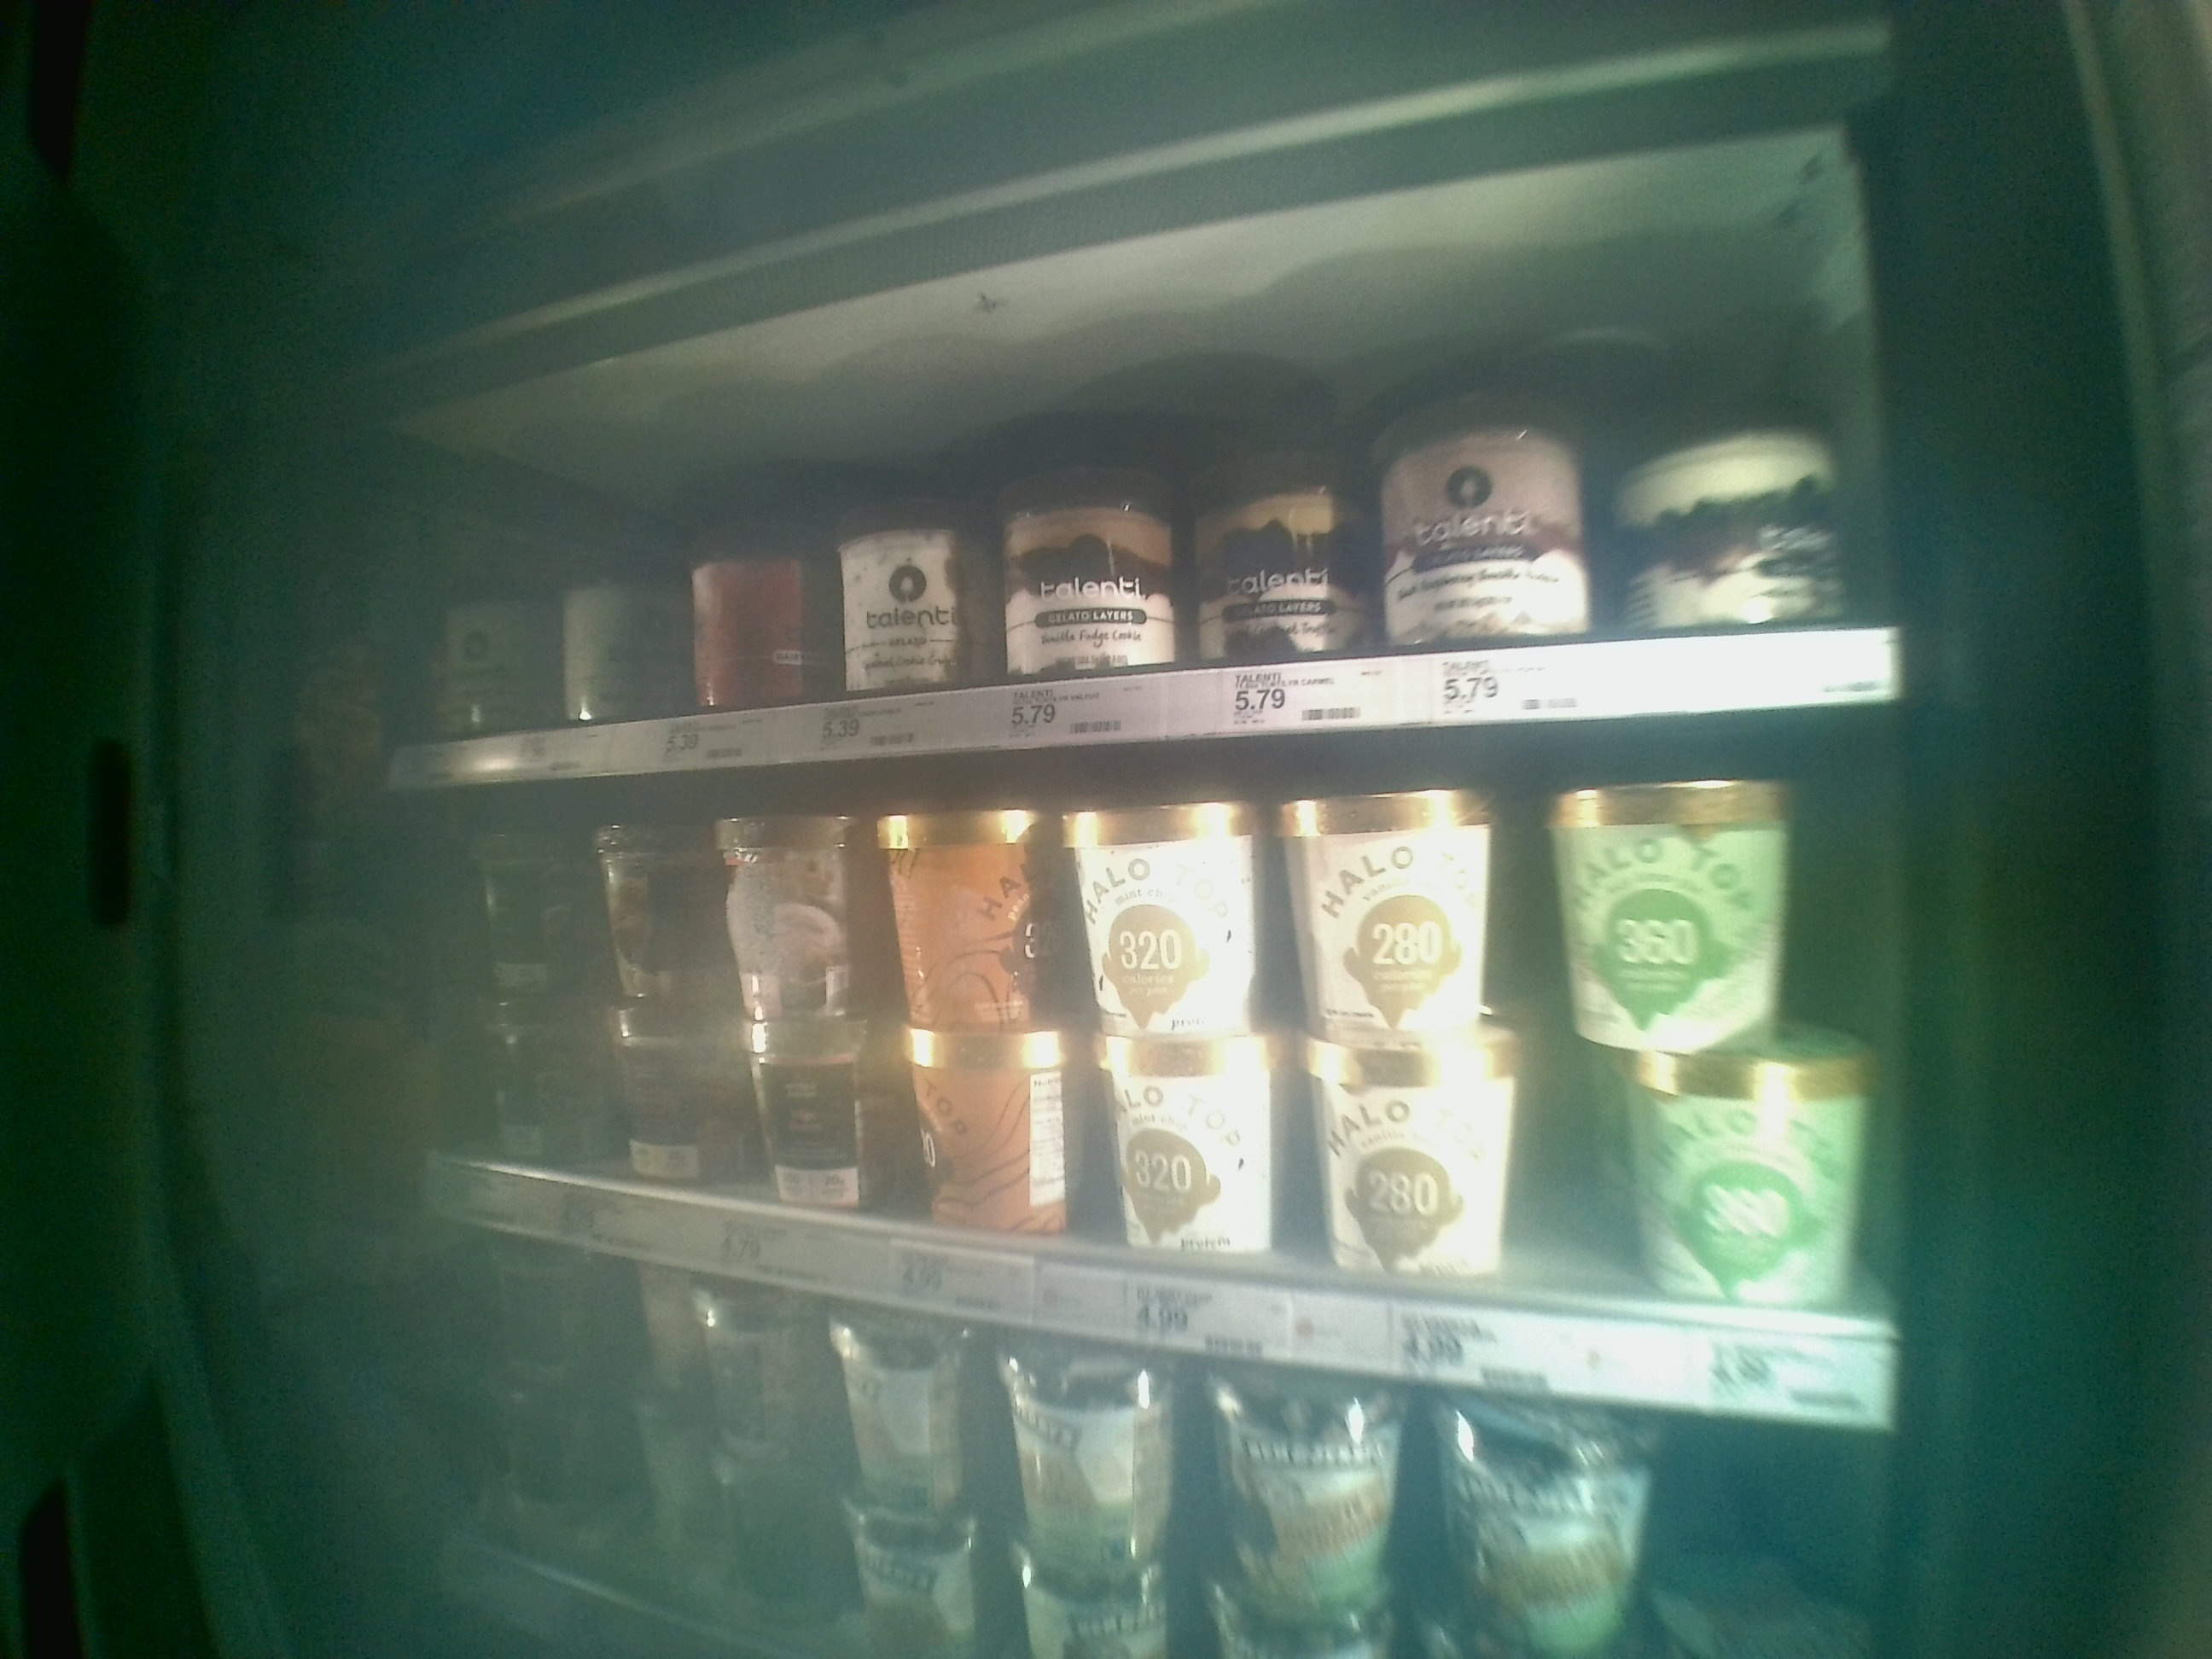shelf: (404, 699, 1900, 1439), (404, 249, 1892, 791)
